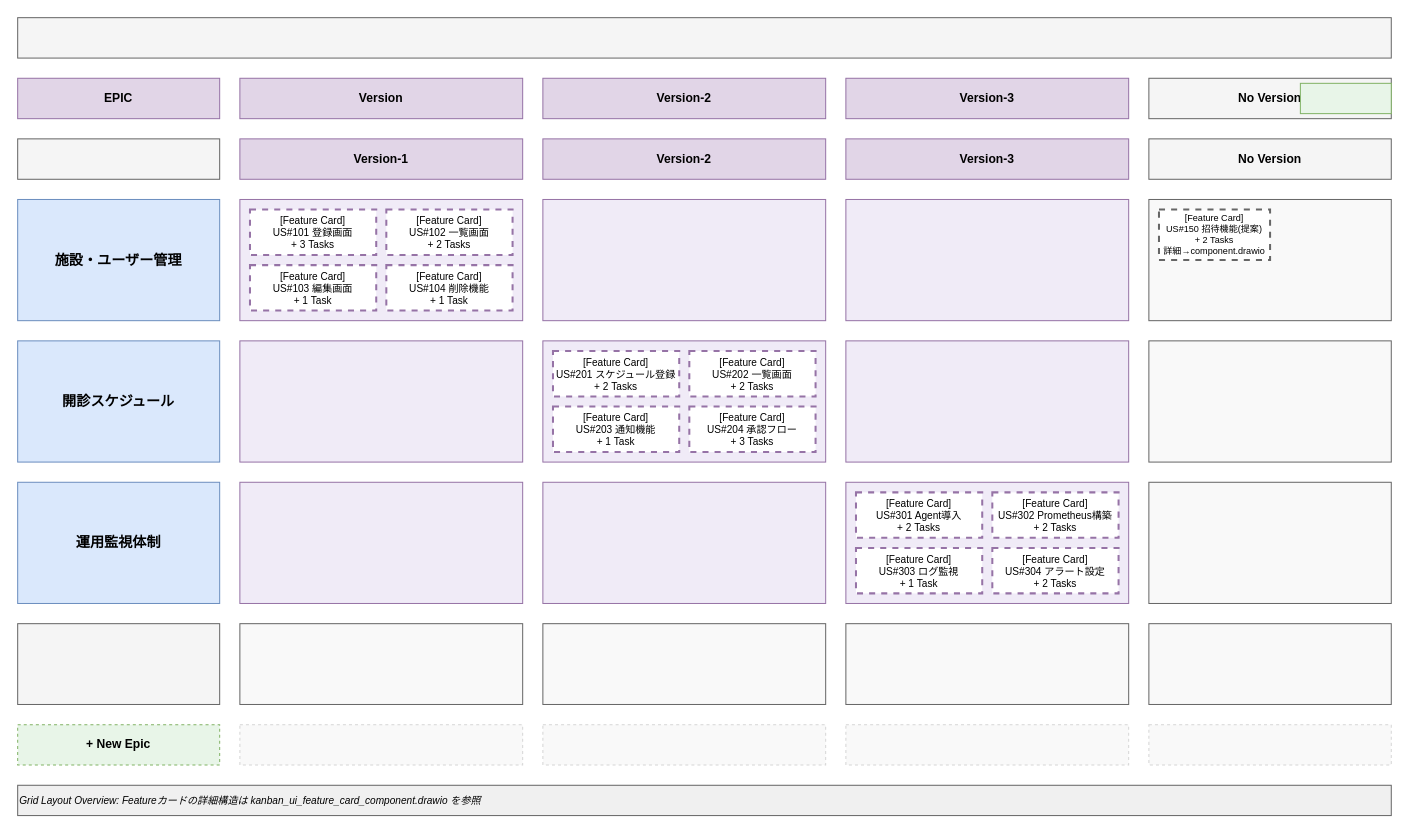
The diagram is 1409 pixels wide and 833 high, and some of its shapes have lost their labels. The shapes that lost their labels are listed below. From the top down, each one's centre as x and y in pixels, then its label:
At pixel 704 37: "Epic Kanban Board".
At pixel 1345 98: "+ New Version".
At pixel 118 663: "No EPIC".
